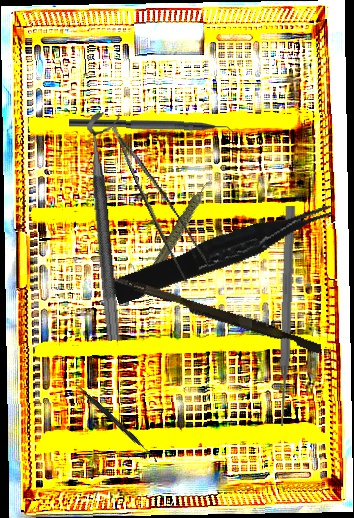Chopper: (68, 118, 242, 141)
Fixation Ring: (86, 110, 140, 342)
Handpiece: (116, 177, 237, 298)
Pusher: (104, 273, 324, 354), (275, 205, 297, 427)
Spatula Surgical: (71, 381, 161, 463)
Tissue Forceps: (108, 200, 339, 305), (111, 114, 212, 286)
